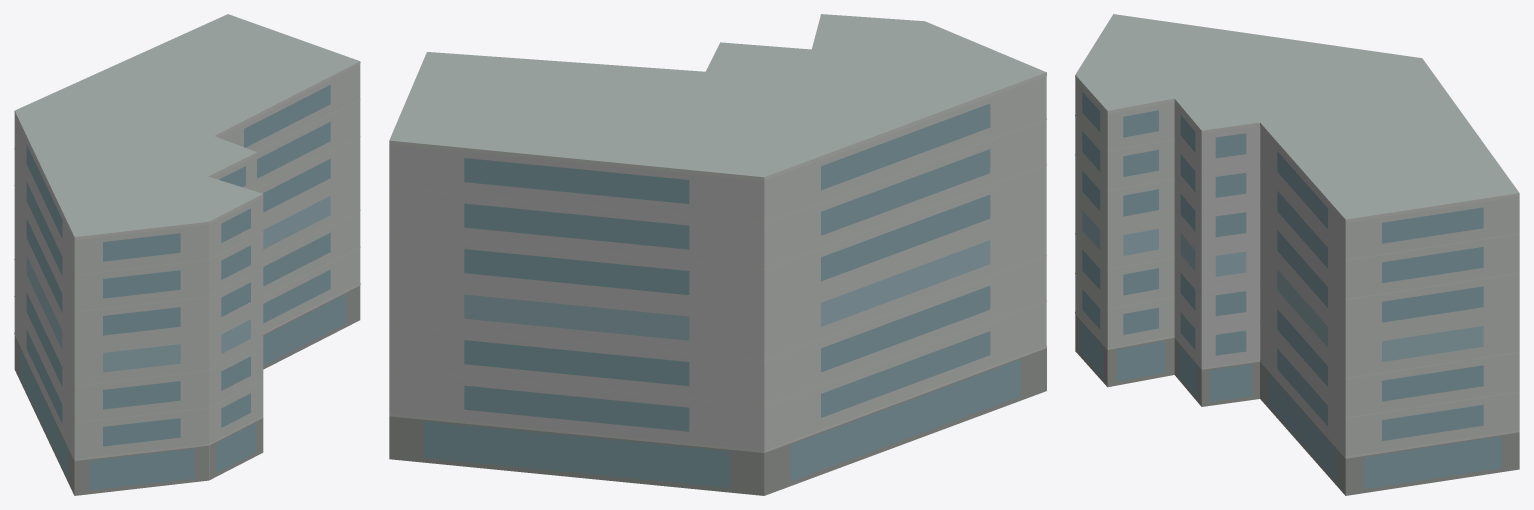
Rendered from survey-upis-32847994.glb.
3 views of the same model, side by side, from view 1: azimuth 30°, elevation 25°; view 2: azimuth 150°, elevation 25°; view 3: azimuth 270°, elevation 25° (orthographic). The views are drawn at different scales.
Visible parts, largest first — view 1: survey-upis-32847994.tmp; view 2: survey-upis-32847994.tmp; view 3: survey-upis-32847994.tmp.
Part boxes in pixels (left/top/right/bottom): survey-upis-32847994.tmp: left=14, top=14, right=360, bottom=495; survey-upis-32847994.tmp: left=389, top=14, right=1046, bottom=495; survey-upis-32847994.tmp: left=1075, top=14, right=1519, bottom=495.
Bounding box in the file's own units: 32.1 × 20.1 × 29.33.
